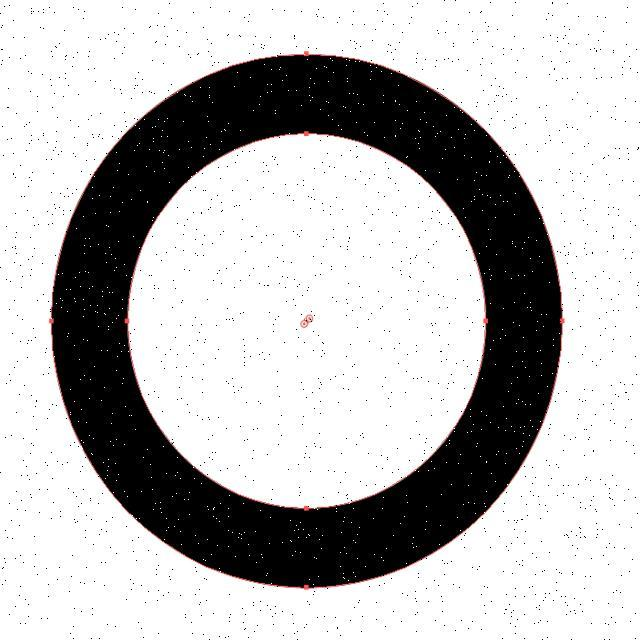Circle: (52, 56, 561, 585)
